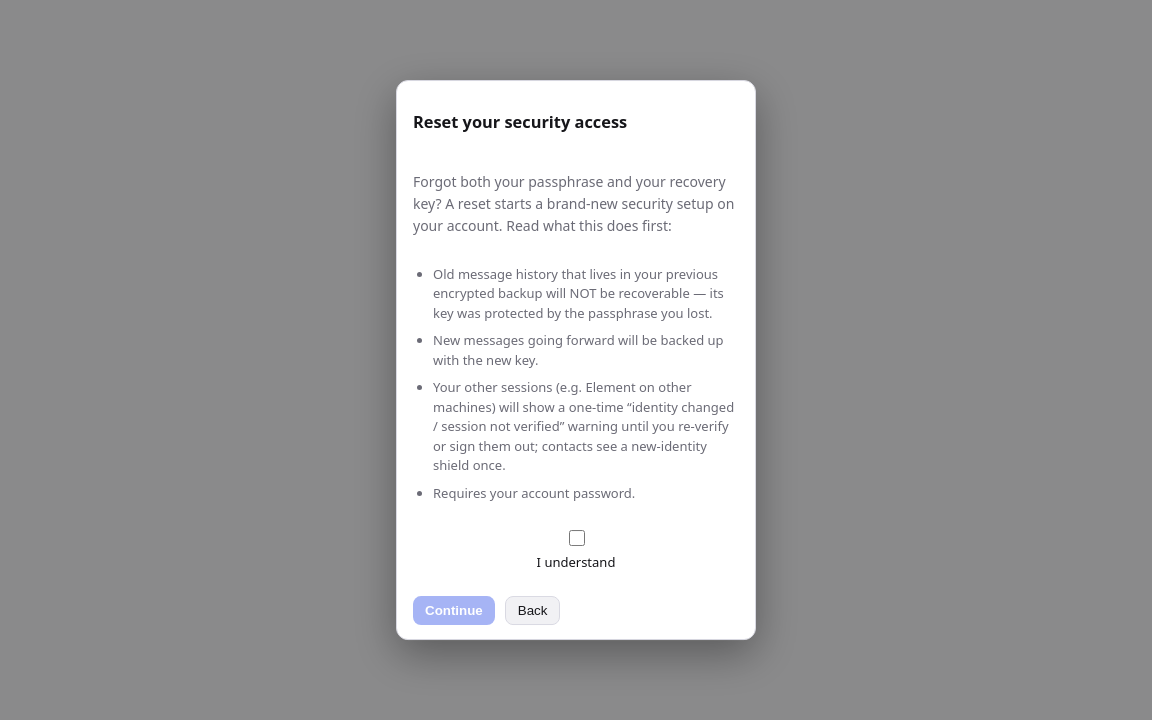
Test: W23-B destructive reset behind an honest confirmation › confirm bullets -> 'I understand' gates the form -> password+passphrase -> forced key ack -> gate closes
Earlier steps of the test are not shown.
Later steps or results of the test are not shown.
Expected: the element with test id "reset-confirm" is shown, 413,95 -> 739,625
Expected: the list with test id "reset-impact" shows "will NOT be recoverable — its key was protected by the passphrase you lost", 433,265 -> 724,322
Click the checkbox with test id "reset-understand" at (576, 538), box 568,530 -> 584,546
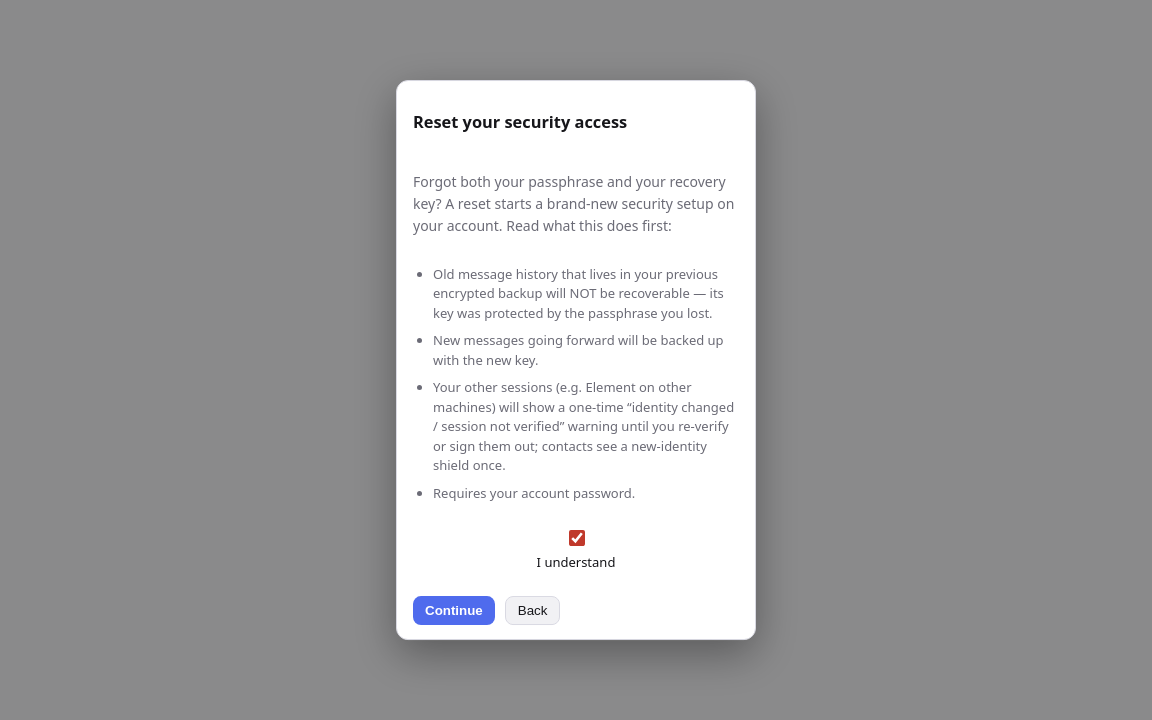
Result: the button with test id "reset-continue" is enabled
Click the button with test id "reset-continue" at (454, 610), box 413,596 -> 495,625
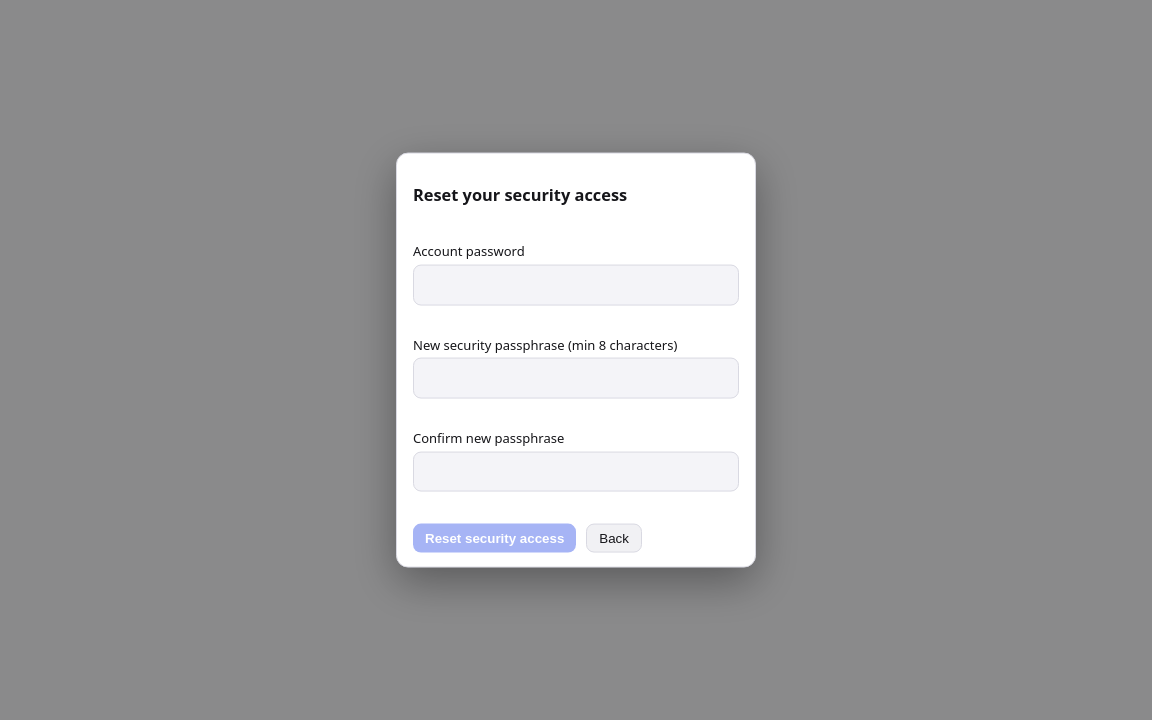
Result: the element with test id "reset-form" is shown at 413,168 -> 739,552
Result: the button with test id "reset-go" is disabled at 413,524 -> 576,552
Type "acct-pw" into the password field with test id "reset-password" at (576, 285), box 413,265 -> 739,305
Type "tiny" into the password field with test id "reset-pass1" at (576, 378), box 413,358 -> 739,398
Type "tiny" into the password field with test id "reset-pass2" at (576, 471), box 413,451 -> 739,492
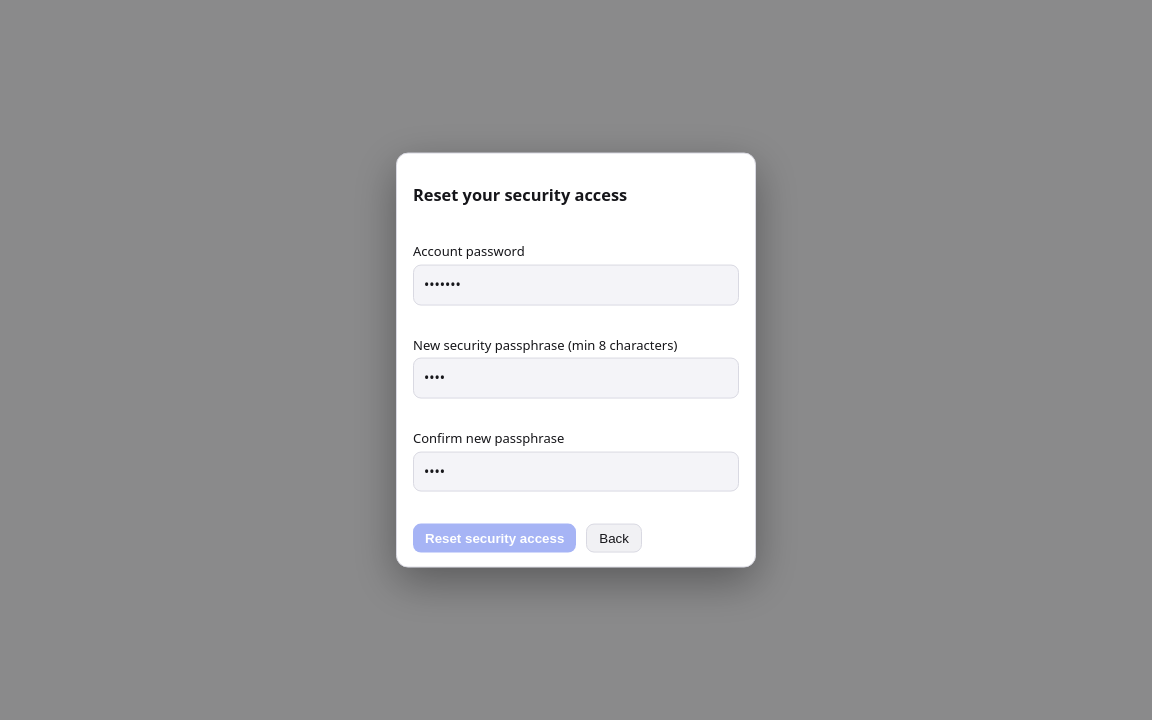
Result: the button with test id "reset-go" is disabled at 413,524 -> 576,552
Type "brand new phrase" into the password field with test id "reset-pass1" at (576, 378), box 413,358 -> 739,398
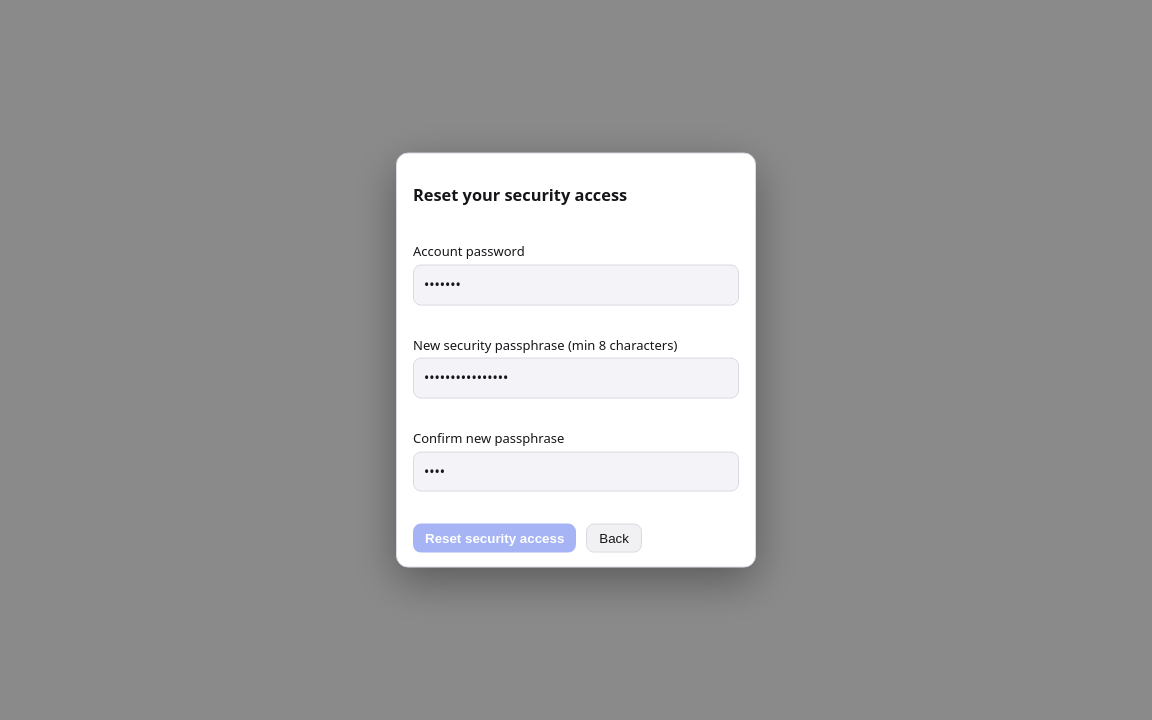
Type "brand new phrase" into the password field with test id "reset-pass2" at (576, 471), box 413,451 -> 739,492
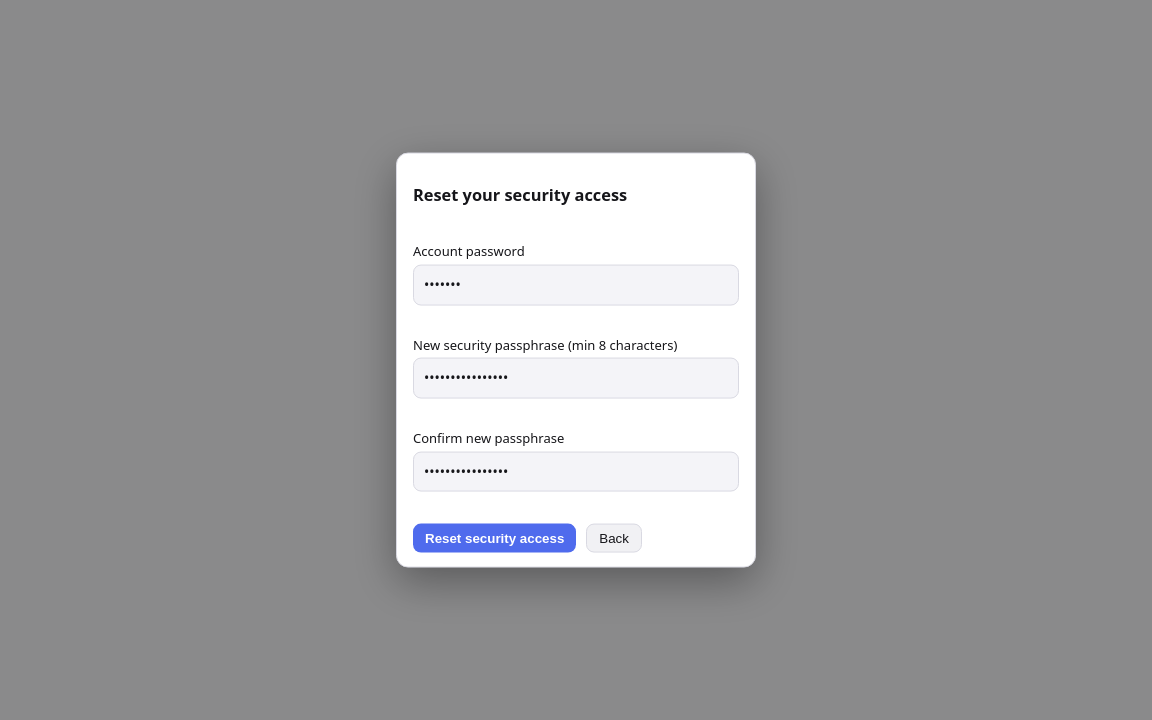
Result: the button with test id "reset-go" is enabled
Click the button with test id "reset-go" at (495, 538), box 413,524 -> 576,552
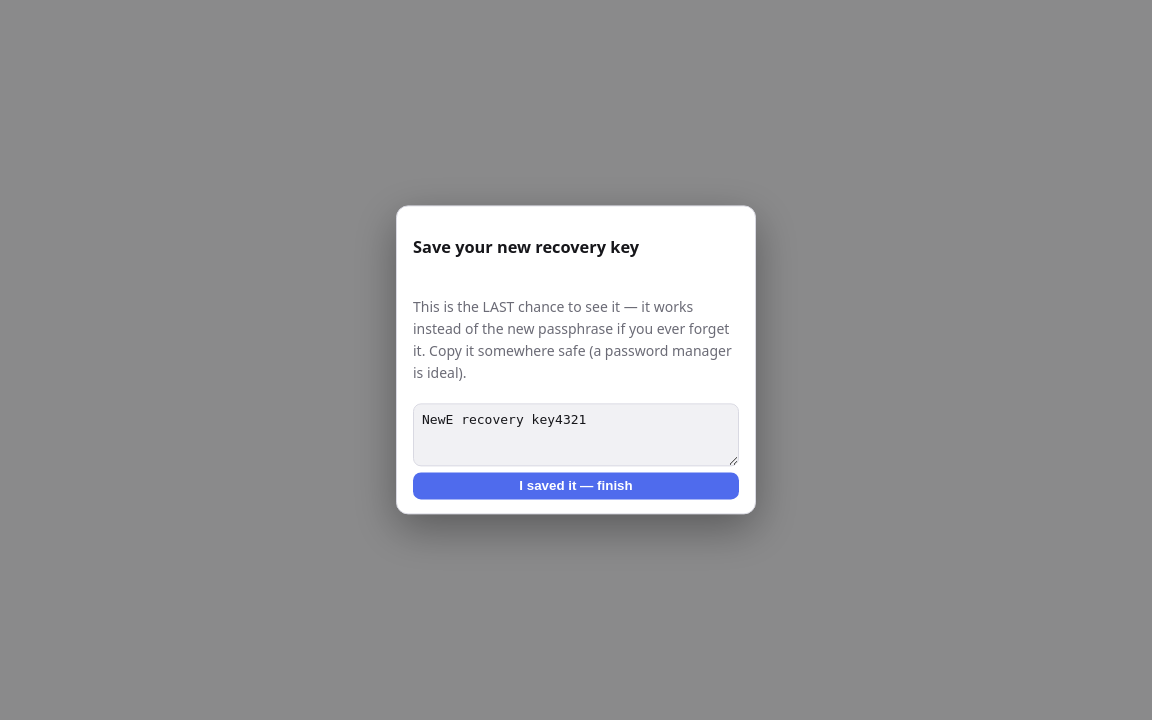
Result: the element with test id "reset-showkey" is shown at 413,220 -> 739,500
